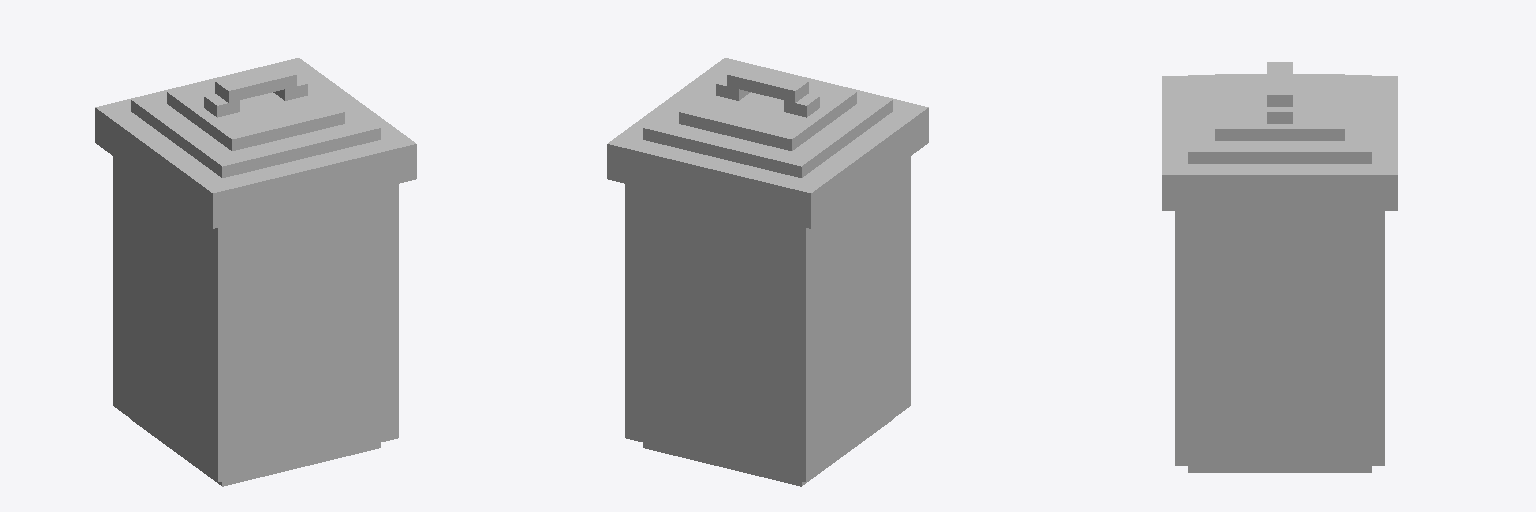
The model's file is Bin.obj.
3 renders of one model, left to right at view 1: azimuth 30°, elevation 25°; view 2: azimuth 150°, elevation 25°; view 3: azimuth 270°, elevation 25°, orthographic.
Visible parts, largest first — view 1: object 1; view 2: object 1; view 3: object 1.
Part boxes in pixels (x1,y1,x2,y2): object 1: (95,58,416,486); object 1: (607,58,928,486); object 1: (1162,62,1397,472).
Size of the model in its own units: 1.8 by 3 by 1.8.